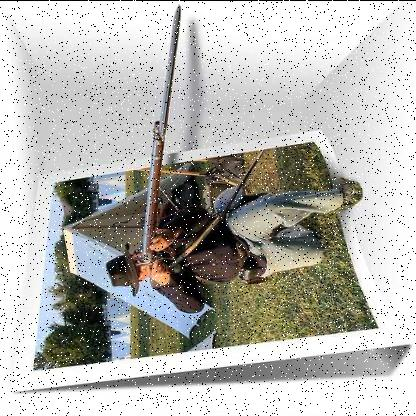rifle: (122, 117, 196, 273)
